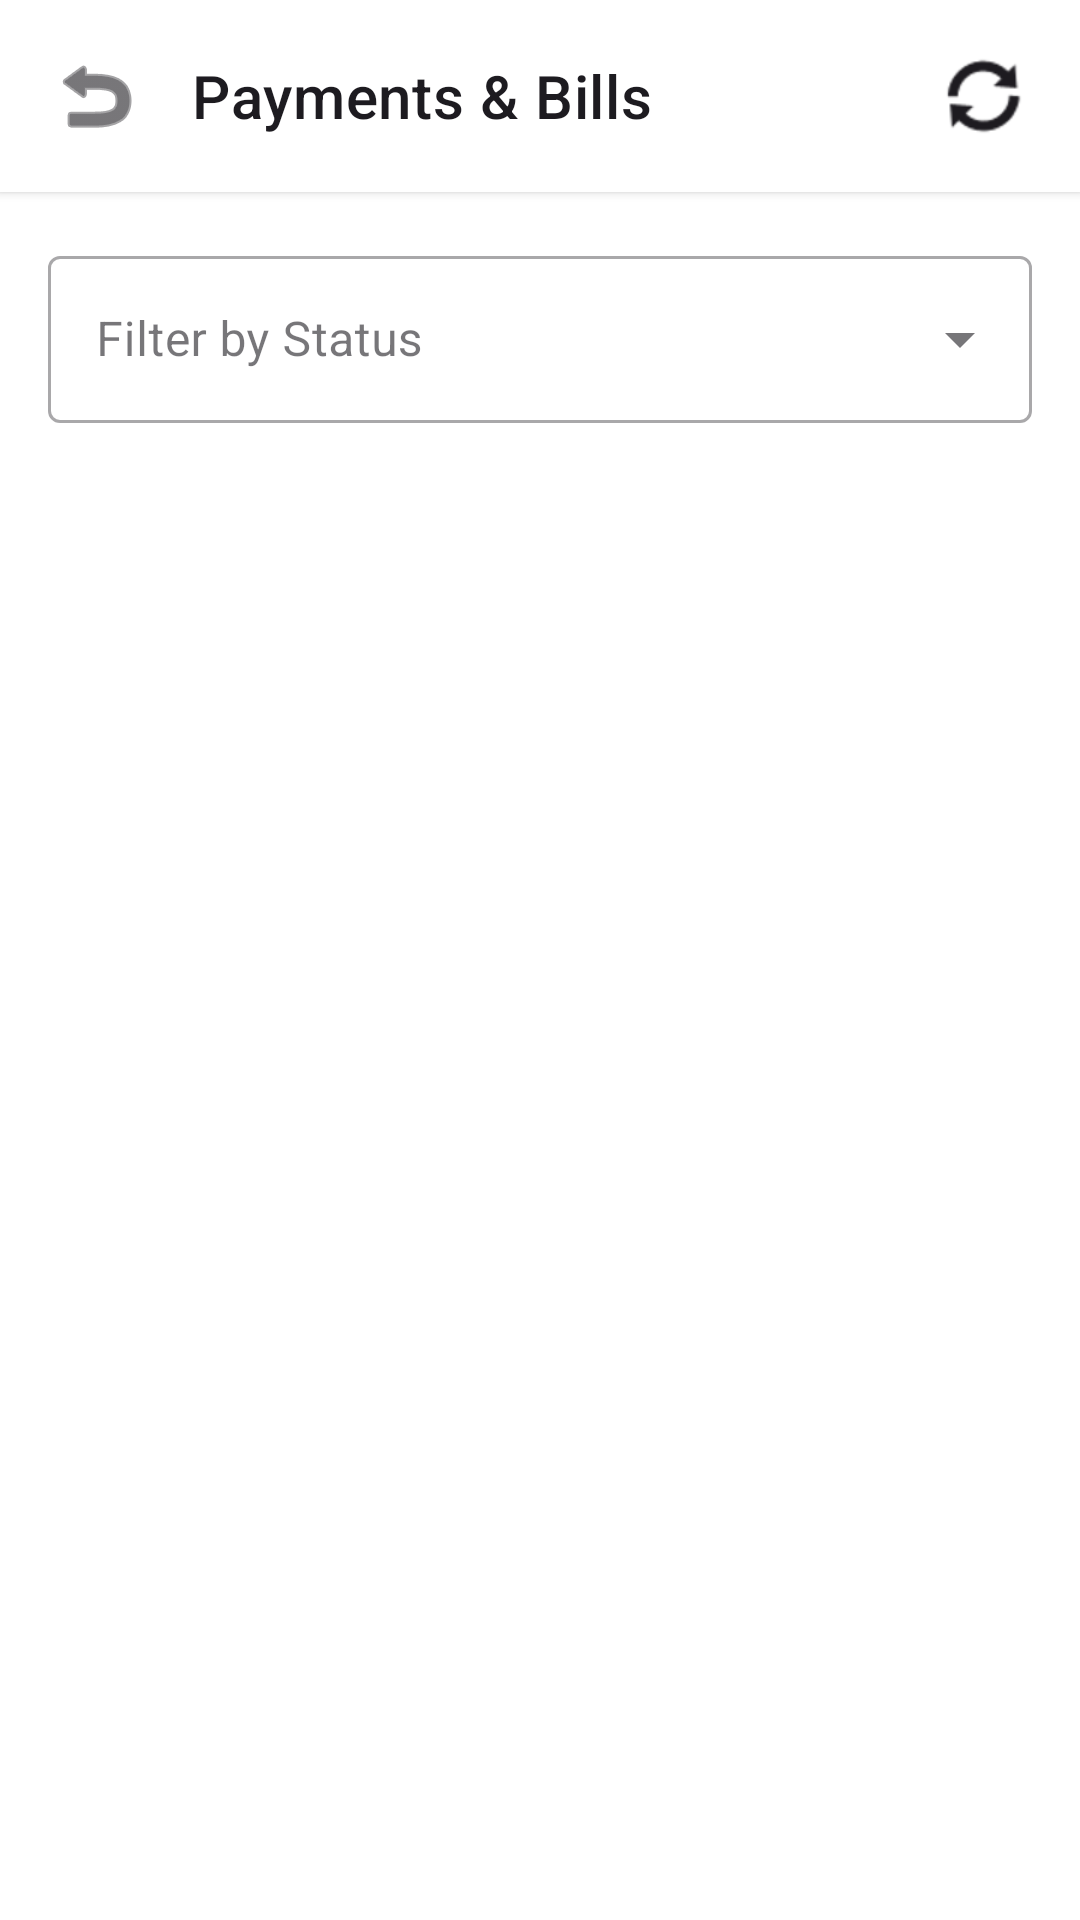

Where icons sit on this 1080w x 1920h app screen, as detection(x1, y1, x2, y2):
Go back: detection(63, 65, 132, 128)
Refresh: detection(947, 60, 1021, 132)
